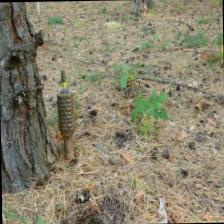POMZ2: (48, 69, 78, 172)
